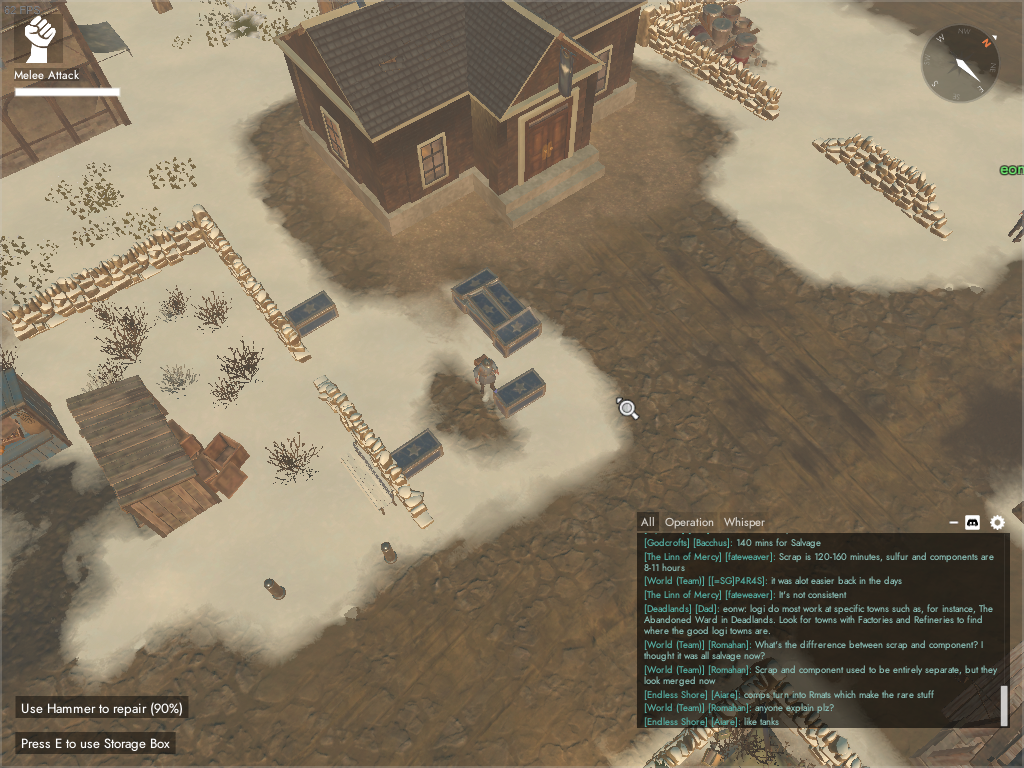player: (471, 353, 499, 395)
storage_box: (385, 429, 445, 485), (493, 366, 548, 419), (489, 307, 543, 358), (285, 290, 340, 339), (450, 267, 506, 315), (459, 288, 509, 341), (480, 279, 527, 322)
toggle_storage_box: (16, 732, 176, 754)
